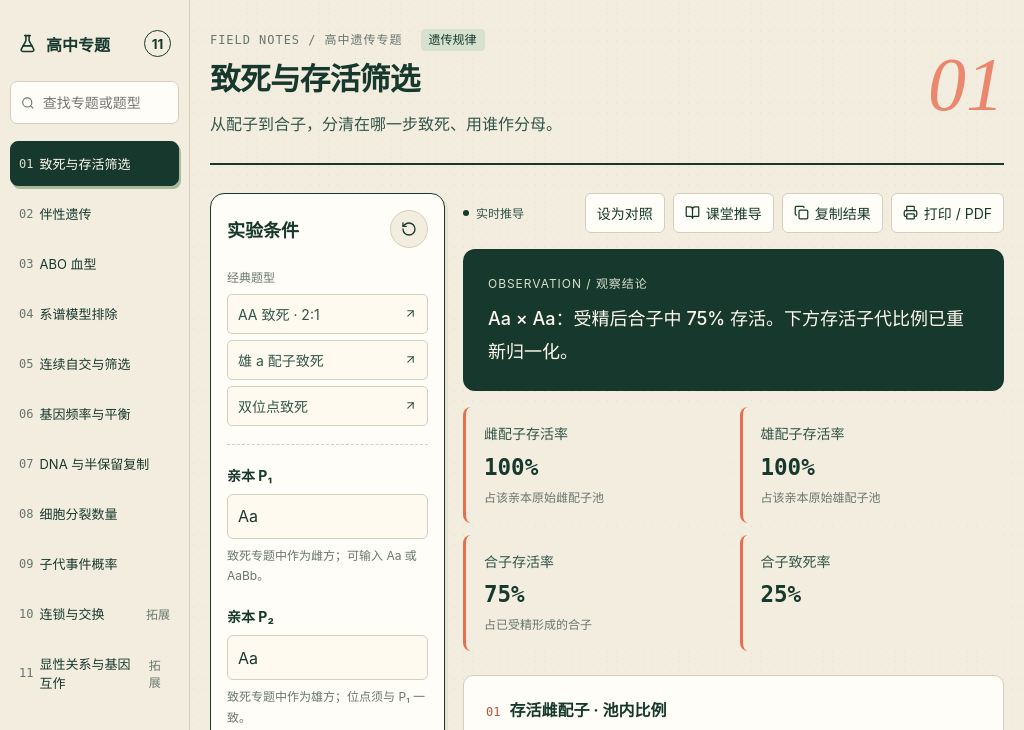
high-school workbench › handles clipboard failure honestly
Click the button "复制结果" at (832, 213), box [782,193,883,233]
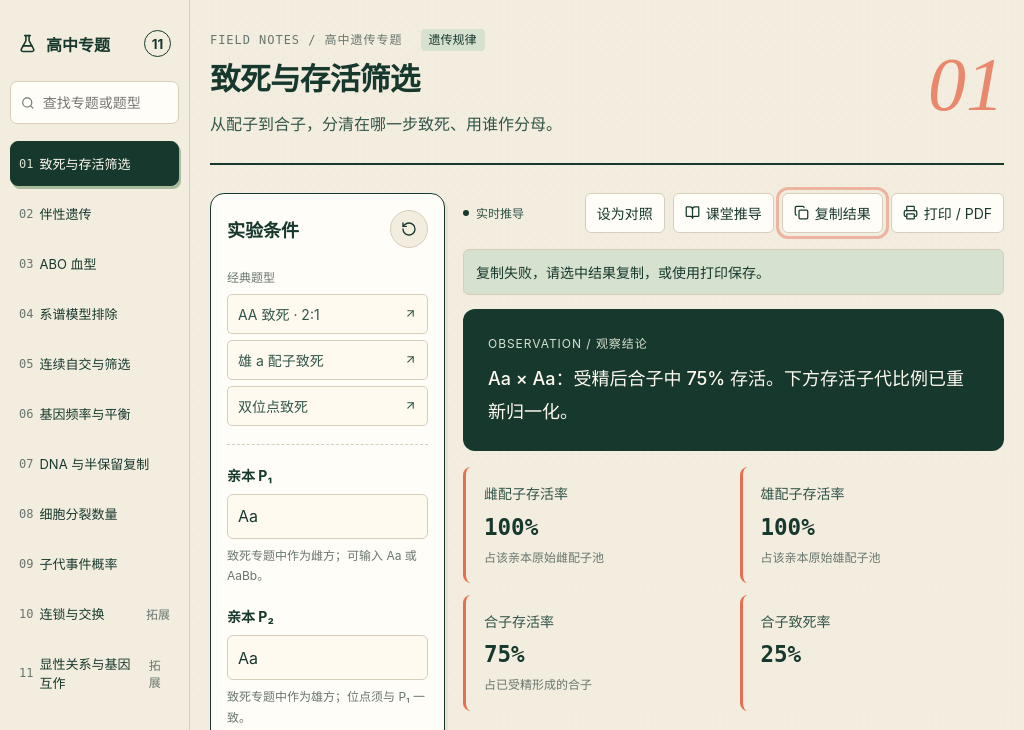
Check: the message shows "复制失败", box [476,264,770,281]
